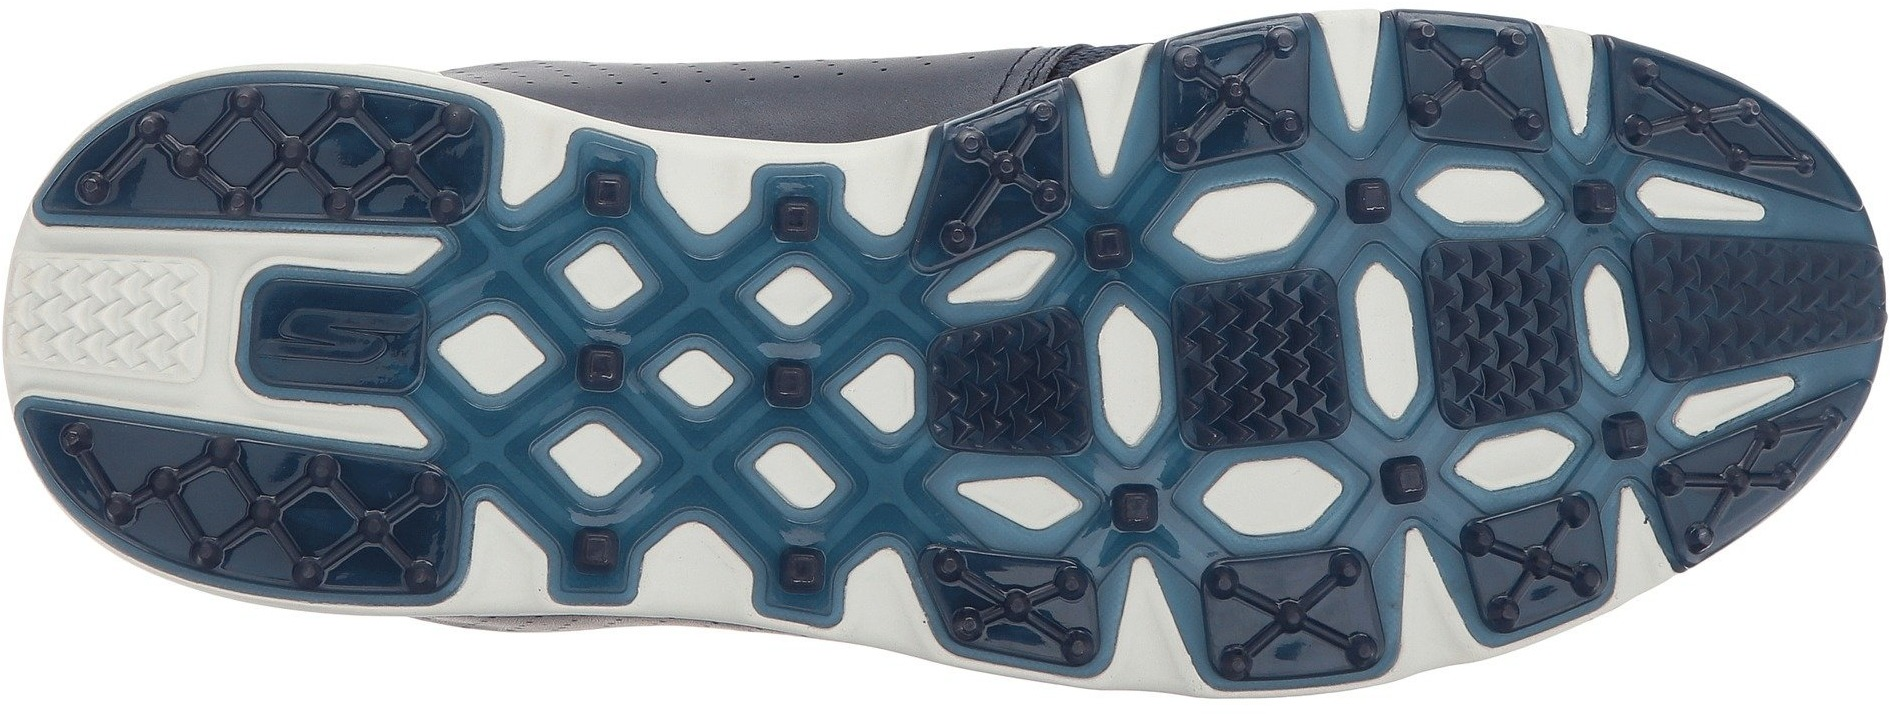polygon: (1169, 443, 1364, 561), (1338, 241, 1436, 437), (1079, 279, 1174, 464), (1396, 142, 1557, 248), (933, 460, 1099, 562)
quad: (422, 150, 964, 631), (37, 92, 476, 226), (1630, 229, 1883, 388), (10, 238, 225, 411), (1169, 263, 1352, 449), (1414, 241, 1587, 431), (920, 308, 1092, 463), (236, 269, 439, 400), (1199, 549, 1383, 687), (912, 542, 1111, 665), (1167, 24, 1319, 166), (1392, 14, 1546, 150)
star: (1290, 122, 1433, 273), (1050, 164, 1176, 317), (1346, 420, 1477, 558), (1536, 142, 1648, 248)
